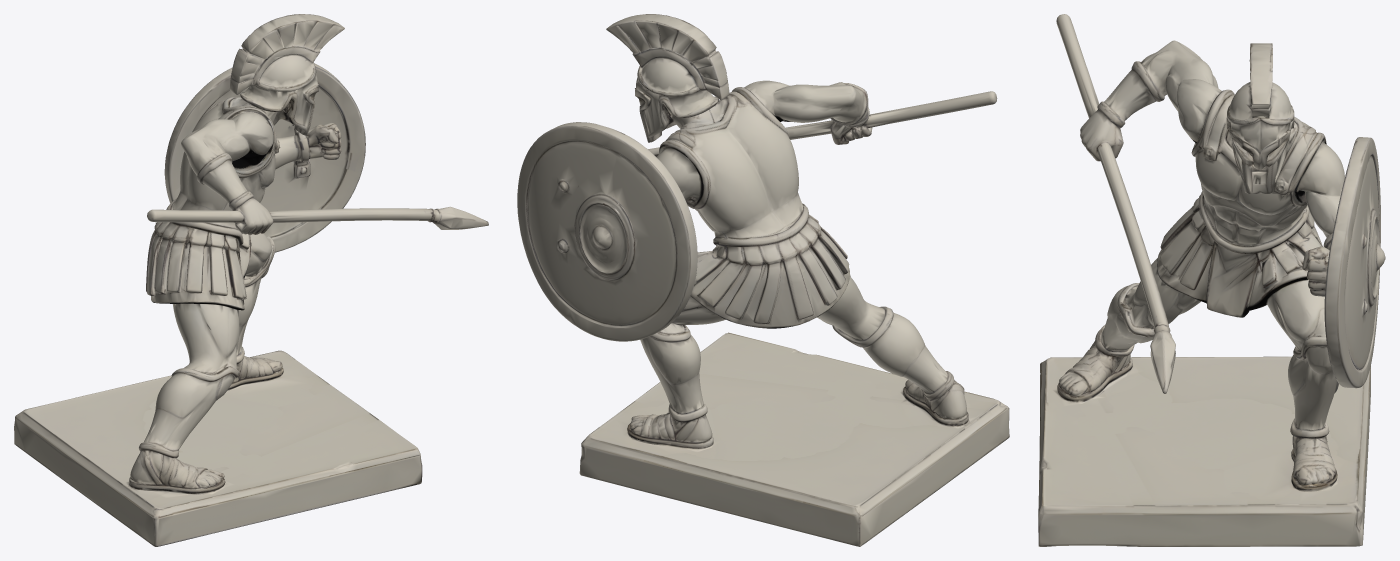
The model's file is prop_statue_b.glb.
The picture shows the model from 3 angles, left to right: view 1: azimuth 30°, elevation 25°; view 2: azimuth 150°, elevation 25°; view 3: azimuth 270°, elevation 25°; orthographic projection. The views are drawn at different scales.
Visible parts, largest first — view 1: material; view 2: material; view 3: material.
Boxes of the visible parts, <box> form: material: <box>14,14,488,546</box>; material: <box>517,14,1009,546</box>; material: <box>1038,14,1385,546</box>.
Size of the model in its own units: 0.7744 by 0.7731 by 0.5136.
Materials: 1 (1 with a texture image).
